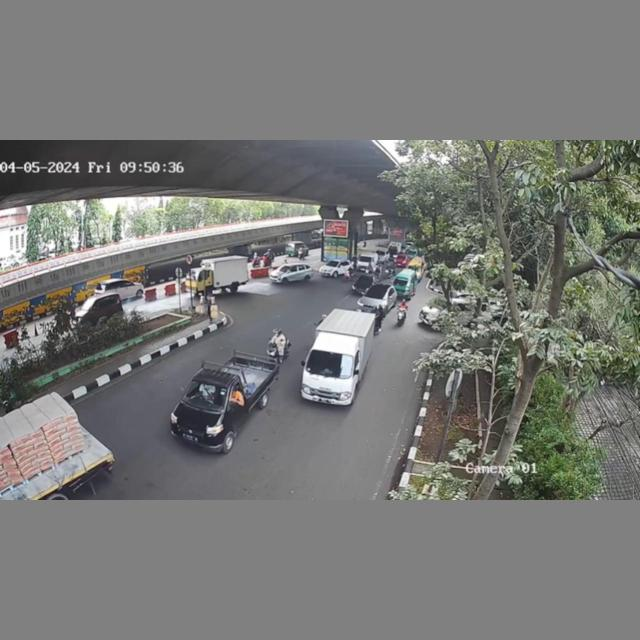windshield: (304, 349, 357, 378), (181, 380, 227, 410), (364, 289, 388, 299)
